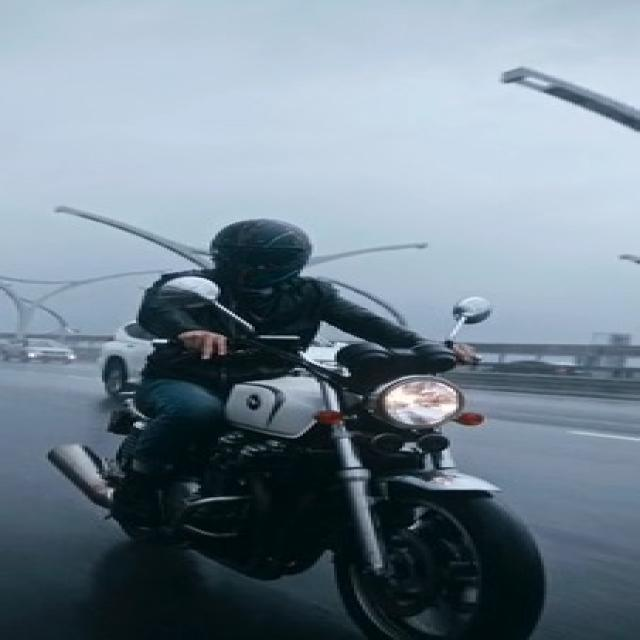Helmet_Wearer: (165, 210, 344, 290)
Jacket_Wearer: (111, 263, 453, 428)
Person: (98, 216, 447, 517)
